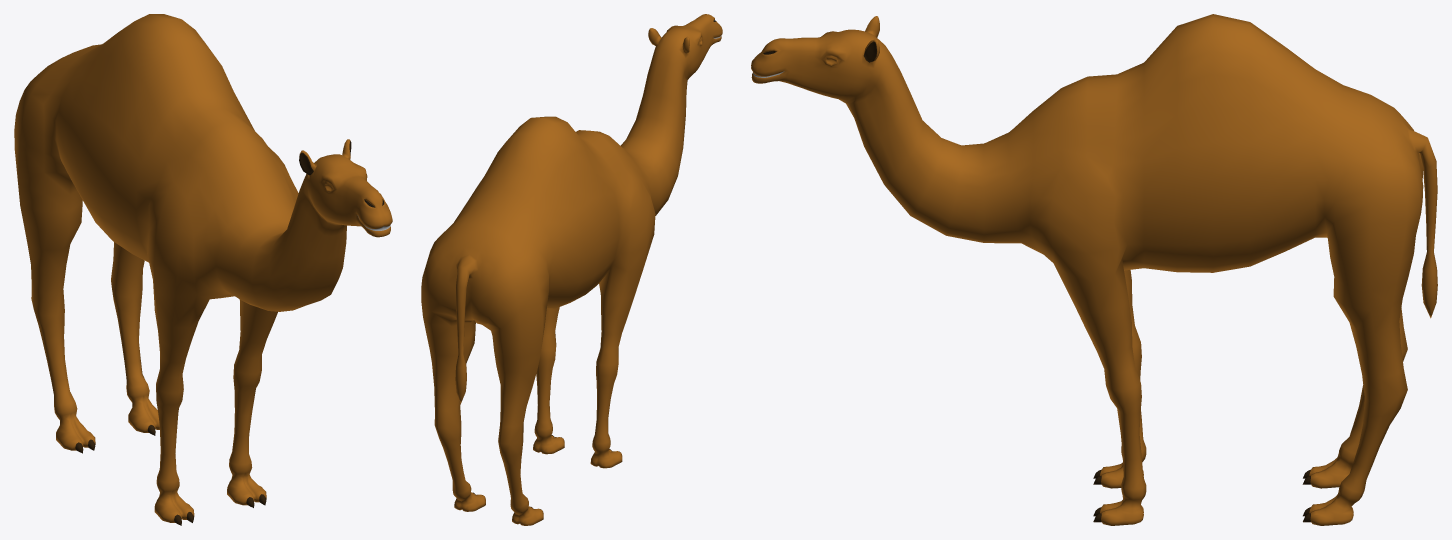
The model's file is camel_camel.obj.
3 renders of one model, left to right at view 1: azimuth 30°, elevation 25°; view 2: azimuth 150°, elevation 25°; view 3: azimuth 270°, elevation 25°, orthographic. The views are drawn at different scales.
Visible parts, largest first — view 1: camel; view 2: camel; view 3: camel.
Boxes of the visible parts, x1,y1,x2,y2 form: camel: (14,14,392,525); camel: (421,14,722,525); camel: (751,14,1437,525).
Bounding box in the file's own units: 0.6649 × 1.95 × 2.52.
